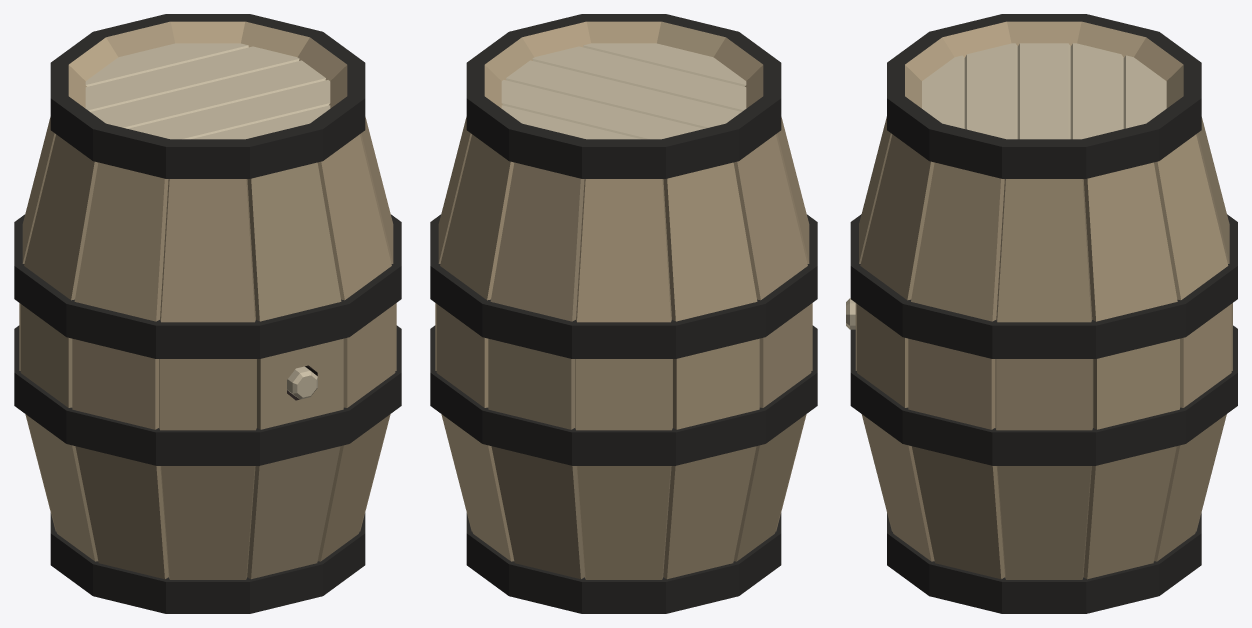
Rendered from whiskey-barrel-7bb83f.glb.
The picture shows the model from 3 angles, left to right: view 1: azimuth 30°, elevation 25°; view 2: azimuth 150°, elevation 25°; view 3: azimuth 270°, elevation 25°; orthographic projection.
Visible parts, largest first — view 1: barrel, bung-plug; view 2: barrel; view 3: barrel.
Boxes of the visible parts, x1,y1,x2,y2 form: barrel: (14, 14, 401, 613); bung-plug: (287, 366, 317, 399); barrel: (430, 14, 817, 613); barrel: (850, 14, 1237, 613).
Size of the model in its own units: 0.5258 by 0.7 by 0.532.
